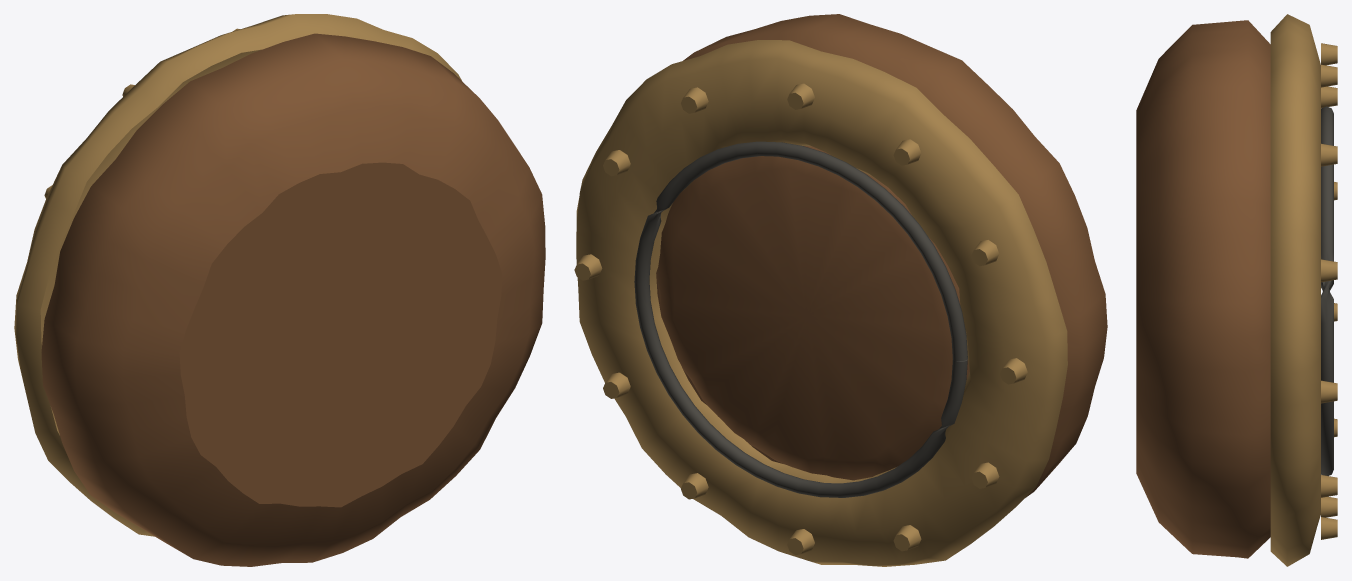
Rendered from merchant_button.fbx.
3 views of the same model, side by side, from view 1: azimuth 30°, elevation 25°; view 2: azimuth 150°, elevation 25°; view 3: azimuth 270°, elevation 25° (orthographic). The views are drawn at different scales.
Visible parts, largest first — view 1: merchant_button_DarkWood, merchant_button_Brass; view 2: merchant_button_Brass, merchant_button_DarkWood, merchant_button_ForgedIron; view 3: merchant_button_DarkWood, merchant_button_Brass, merchant_button_ForgedIron.
Part boxes in pixels (x1,y1,x2,y2): merchant_button_DarkWood: (41,33,545,566); merchant_button_Brass: (14,14,461,536); merchant_button_Brass: (574,40,1067,566); merchant_button_DarkWood: (656,14,1107,497); merchant_button_ForgedIron: (634,141,967,497); merchant_button_DarkWood: (1136,20,1270,558); merchant_button_Brass: (1270,14,1337,566); merchant_button_ForgedIron: (1321,106,1333,475).
Size of the model in its own units: 9.81 by 9.87 by 3.6.
